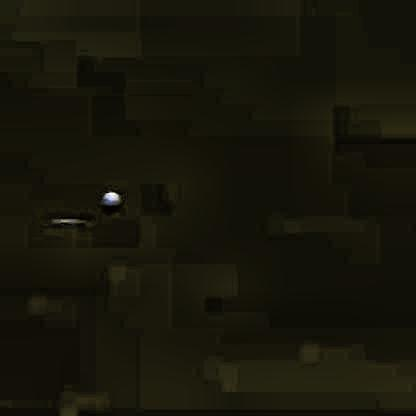golfball: (99, 188, 119, 208)
